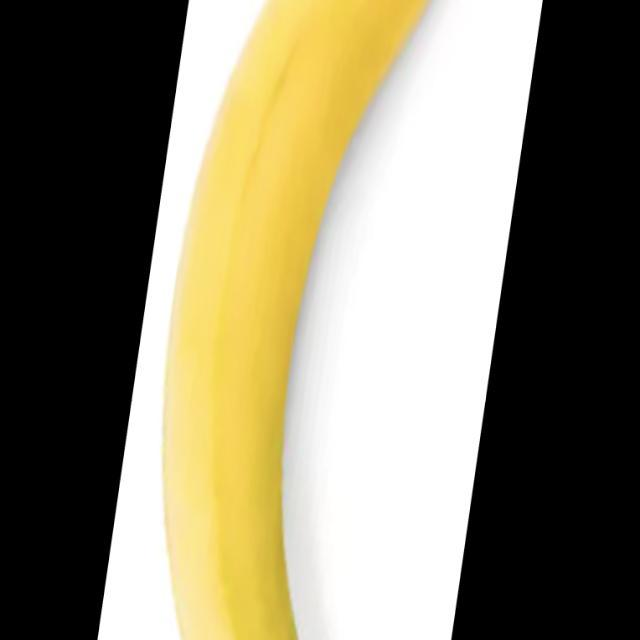Banana: (160, 5, 442, 640)
